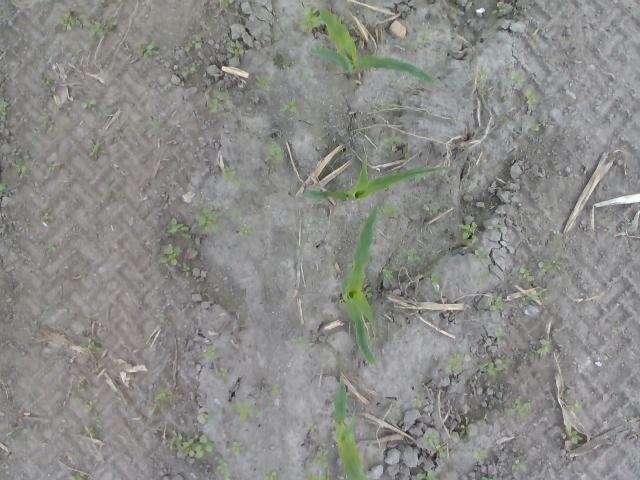Maize: (309, 7, 437, 88), (300, 154, 454, 204), (340, 204, 382, 366), (332, 378, 371, 480)
Weeds: (167, 430, 210, 458), (150, 388, 182, 417), (69, 396, 101, 424), (197, 206, 222, 232), (476, 356, 508, 376), (233, 400, 260, 423), (87, 20, 117, 38), (158, 243, 181, 266), (506, 398, 532, 418), (60, 14, 86, 33), (426, 436, 448, 458), (316, 446, 331, 478), (135, 40, 159, 59), (168, 218, 192, 237), (224, 168, 246, 188), (460, 222, 480, 243), (264, 143, 285, 162), (447, 354, 465, 376), (536, 261, 560, 276), (386, 130, 402, 152), (491, 292, 505, 314), (535, 338, 551, 357), (255, 72, 272, 89), (520, 267, 536, 285), (280, 98, 298, 114), (412, 469, 438, 480), (184, 36, 200, 53), (229, 41, 244, 59), (218, 461, 232, 480), (14, 157, 28, 175), (418, 28, 433, 44), (210, 96, 223, 114), (92, 140, 105, 158), (87, 341, 105, 354), (229, 442, 244, 457), (474, 249, 488, 265), (569, 429, 582, 446), (474, 68, 487, 84), (432, 271, 442, 291), (512, 70, 526, 84), (493, 2, 507, 16), (306, 466, 320, 480), (237, 222, 250, 237), (404, 249, 420, 261), (83, 99, 98, 111), (68, 472, 88, 480), (527, 90, 538, 104), (2, 101, 12, 116), (204, 347, 215, 360), (41, 210, 54, 221), (289, 336, 303, 346), (233, 208, 243, 222), (272, 385, 282, 398), (383, 268, 393, 278), (264, 473, 278, 480), (532, 123, 542, 132), (572, 403, 582, 412), (536, 290, 544, 300), (306, 426, 318, 432), (218, 1, 232, 6)
